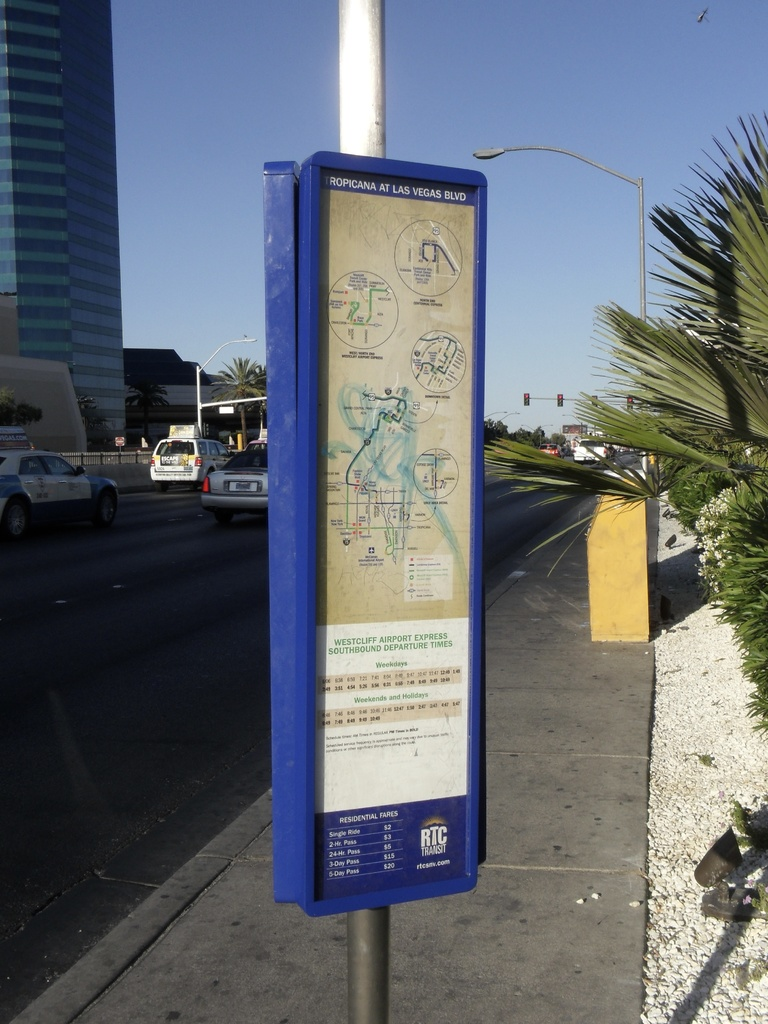Car: (0, 449, 118, 537), (199, 440, 288, 526), (151, 445, 230, 482)
